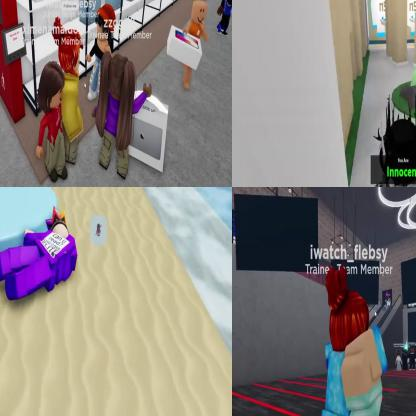Roblox-Avatar: (299, 265, 390, 416), (93, 51, 153, 181), (1, 205, 80, 302), (53, 17, 85, 166), (367, 94, 416, 187), (37, 61, 69, 183), (87, 5, 117, 103), (183, 1, 210, 91), (217, 1, 232, 38), (396, 349, 404, 373), (409, 347, 416, 371)
